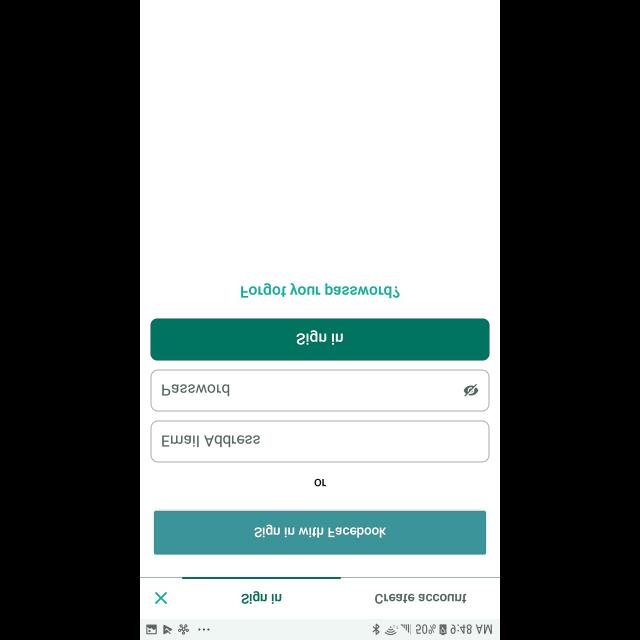icon: (464, 384, 478, 396), (156, 592, 168, 604)
input: (151, 420, 489, 462), (151, 369, 489, 411)
text: (240, 282, 400, 298), (163, 435, 261, 447), (374, 593, 466, 603), (162, 384, 230, 396), (242, 590, 282, 604), (314, 478, 326, 487)
textbutton: (154, 510, 486, 554), (150, 318, 490, 360)
uppertaskbar: (140, 618, 500, 640)
